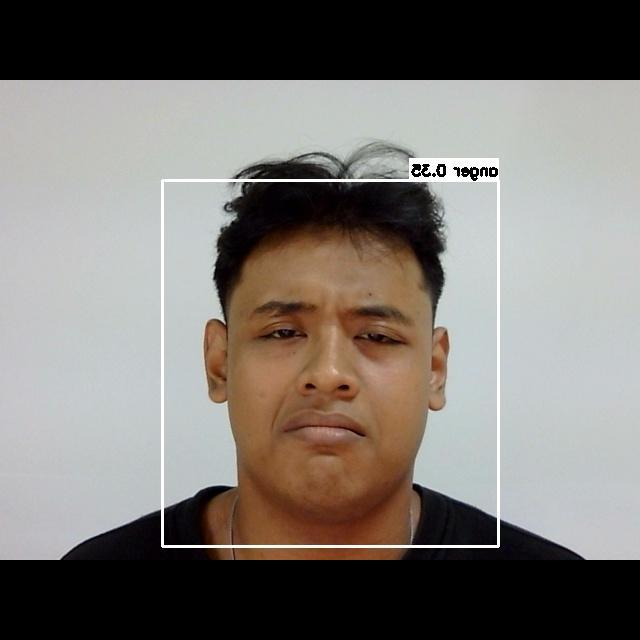Sad: (229, 279, 454, 486)
